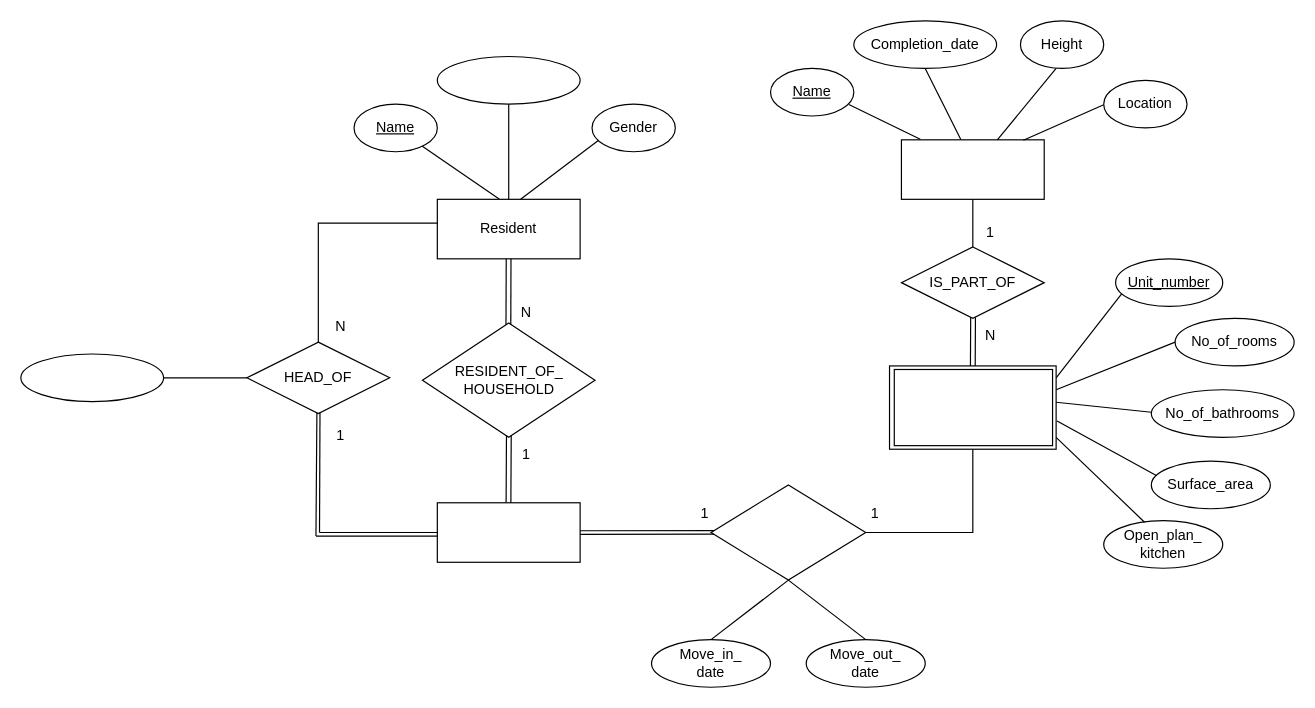
Some shapes in this 1315 by 708 pixel diagram are drawn without their labels. Each missing label, with the box of its shape:
Block: (900, 139, 1044, 199)
Date_of_birth: (436, 55, 580, 104)
Head_of_a_ household: (20, 353, 164, 402)
Household: (436, 502, 580, 562)
MOVES_OR_ LIVES_IN: (710, 484, 866, 580)
Residential_units: (893, 368, 1053, 446)
